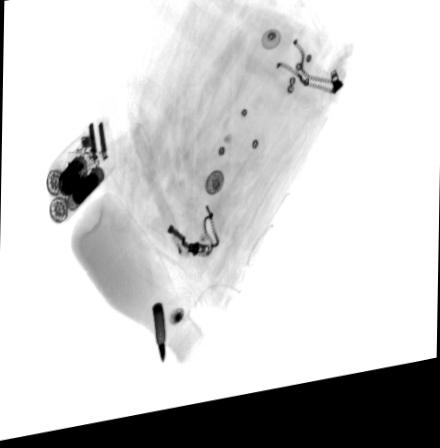Bullet: (152, 307, 167, 371)
